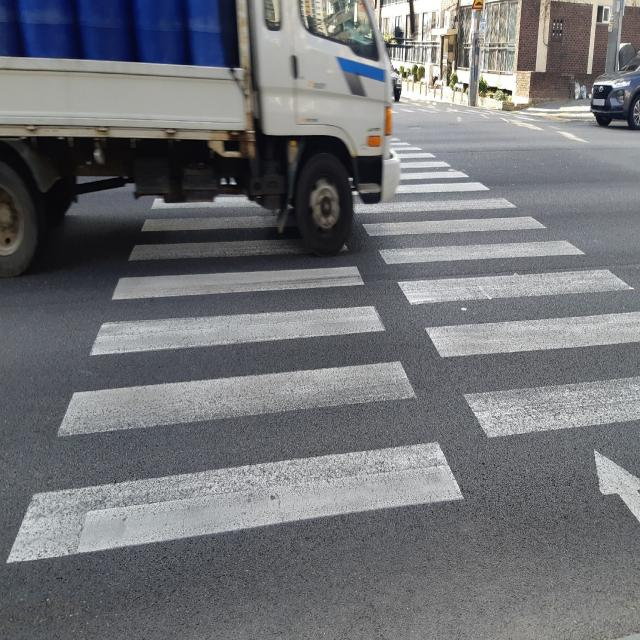횡단보도: (5, 134, 640, 572)
